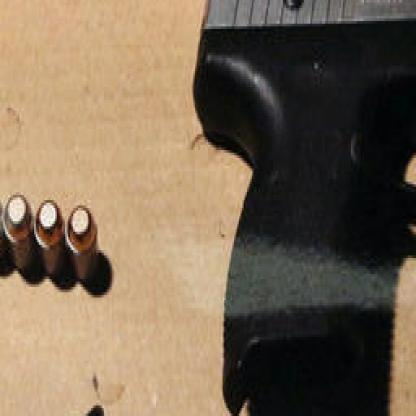gun: (185, 0, 415, 414)
